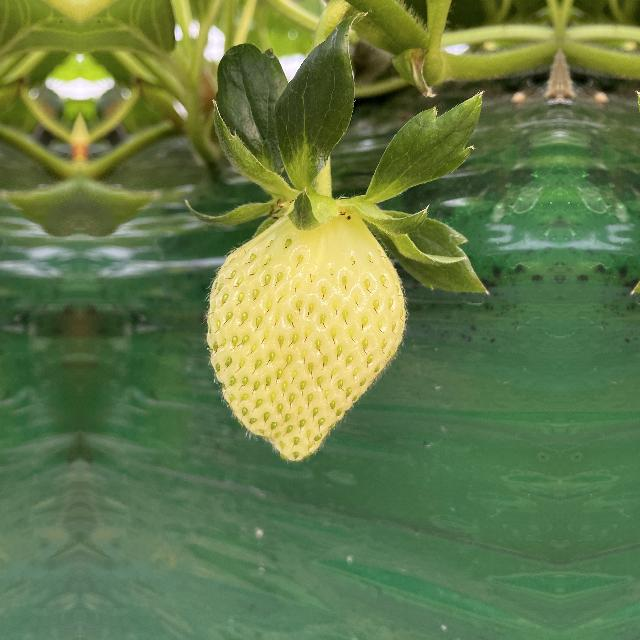Health_25: (200, 185, 414, 470)
